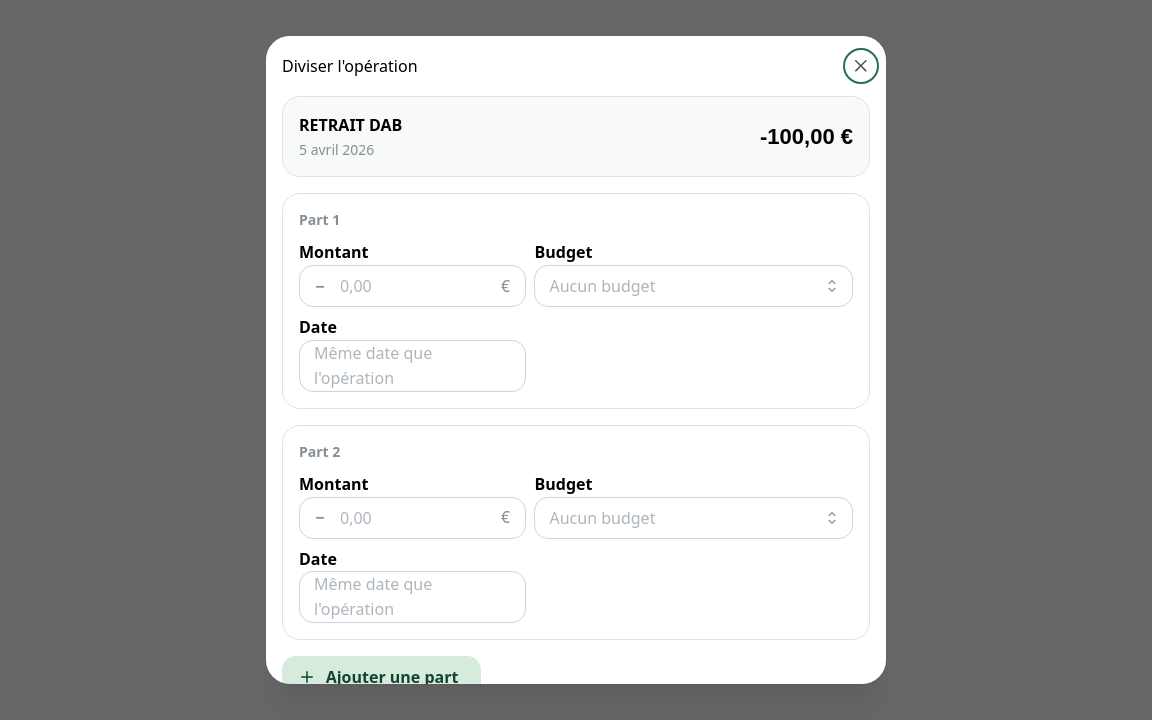
SplitOperationModal › updates the remainder live and enables save once balanced
Type "30" into the field named "Montant (Part 1)" at (413, 286), box [299,265,526,307]
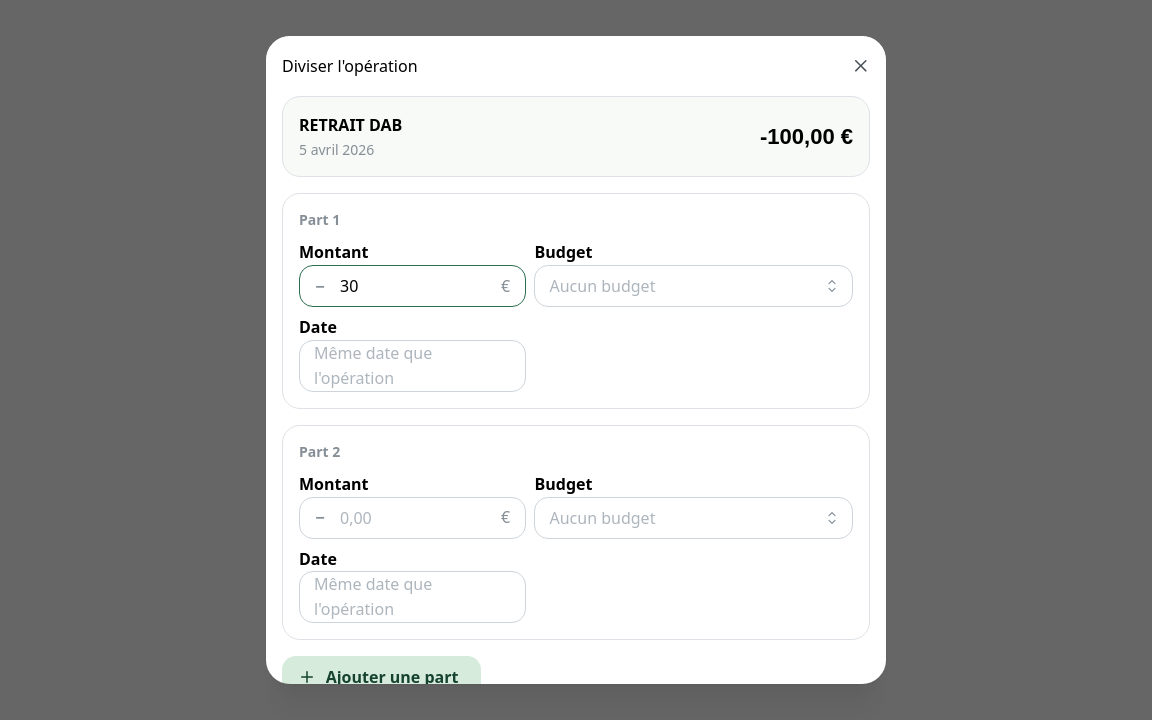
Type "80" into the field named "Montant (Part 2)" at (413, 518), box [299,497,526,539]
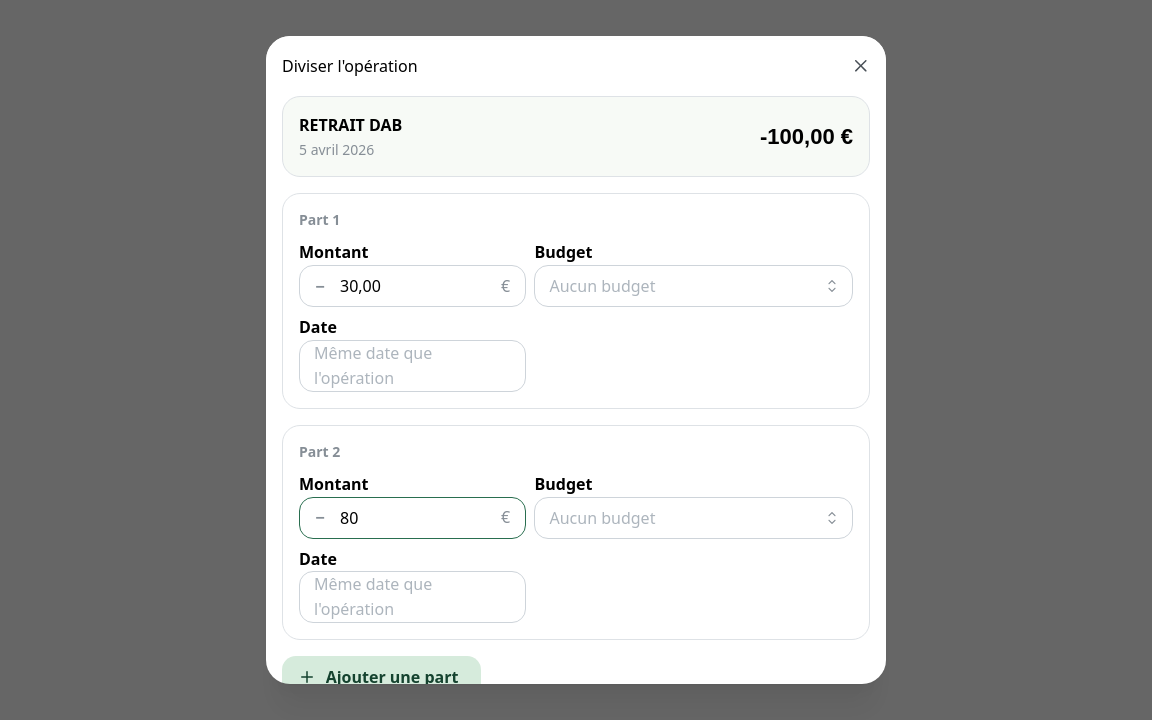
Replace the text in the field named "Montant (Part 2)" with "70" at (413, 518), box [299,497,526,539]
(page scrolled)
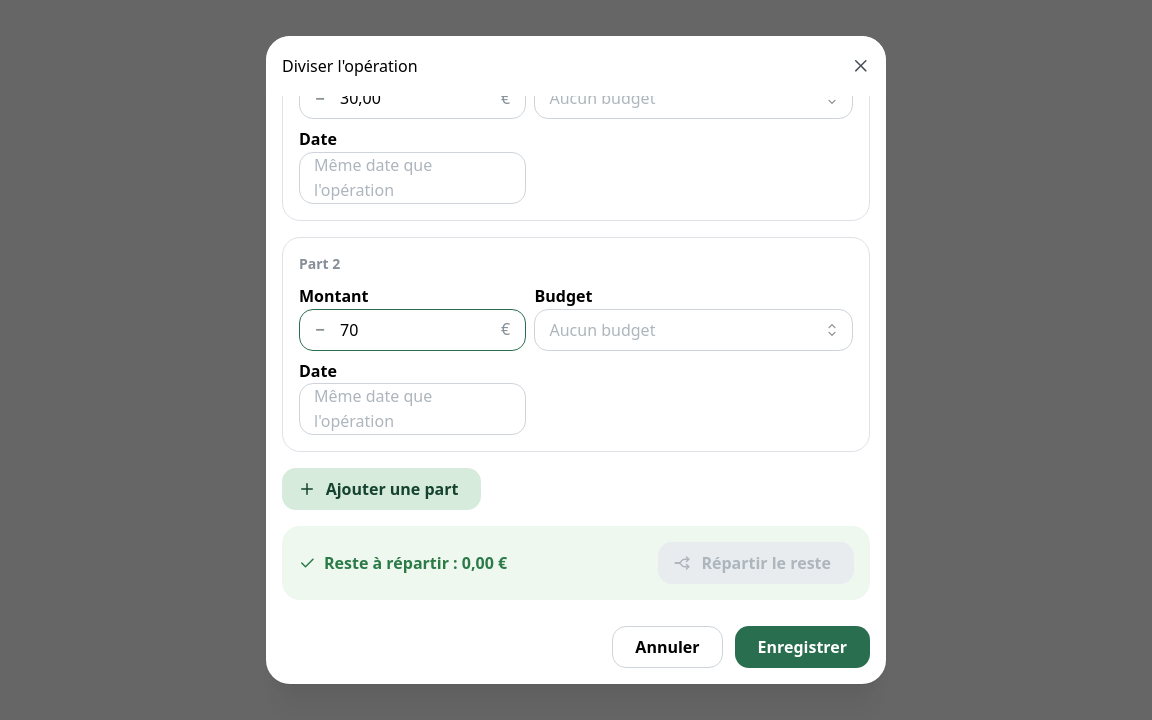
Result: the message reads "Reste à répartir : 0,00 €" at [324,552,507,574]
Result: the button "Enregistrer" is enabled at [734,626,870,668]
